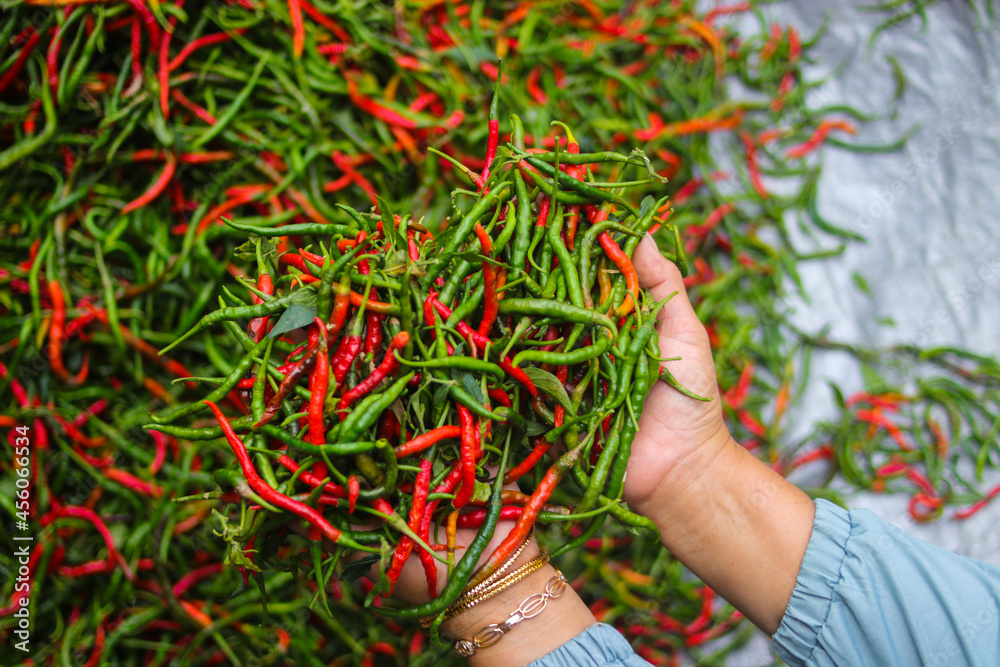Cabai: (266, 213, 623, 503)
